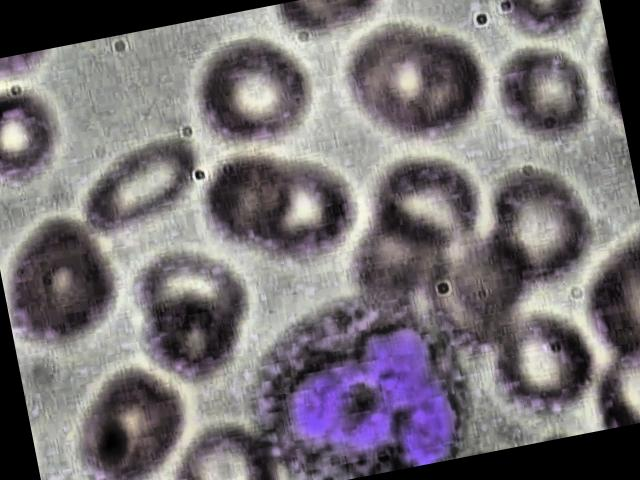RBC: (353, 143, 502, 281), (0, 204, 134, 351), (69, 124, 221, 250), (60, 356, 203, 480), (186, 30, 326, 156), (484, 301, 606, 429), (368, 33, 499, 146), (194, 140, 312, 251), (484, 40, 598, 150), (0, 85, 71, 201), (164, 415, 285, 480), (491, 0, 602, 50)
